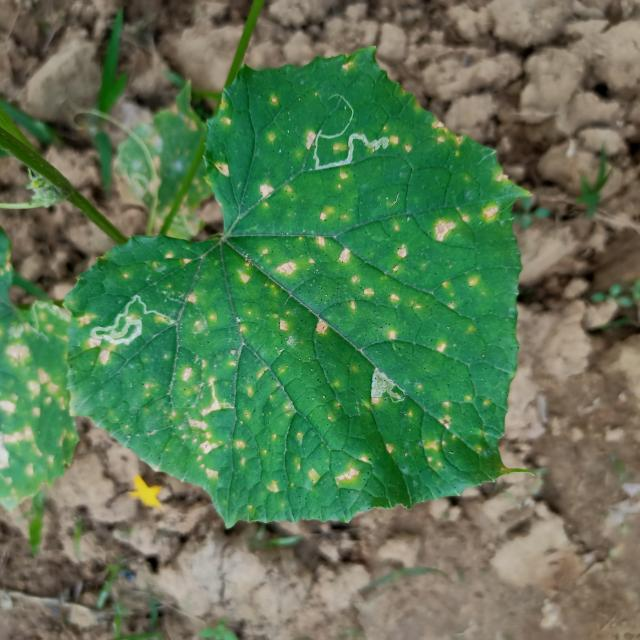disease_cucumber: (88, 103, 490, 503), (0, 309, 68, 495)
